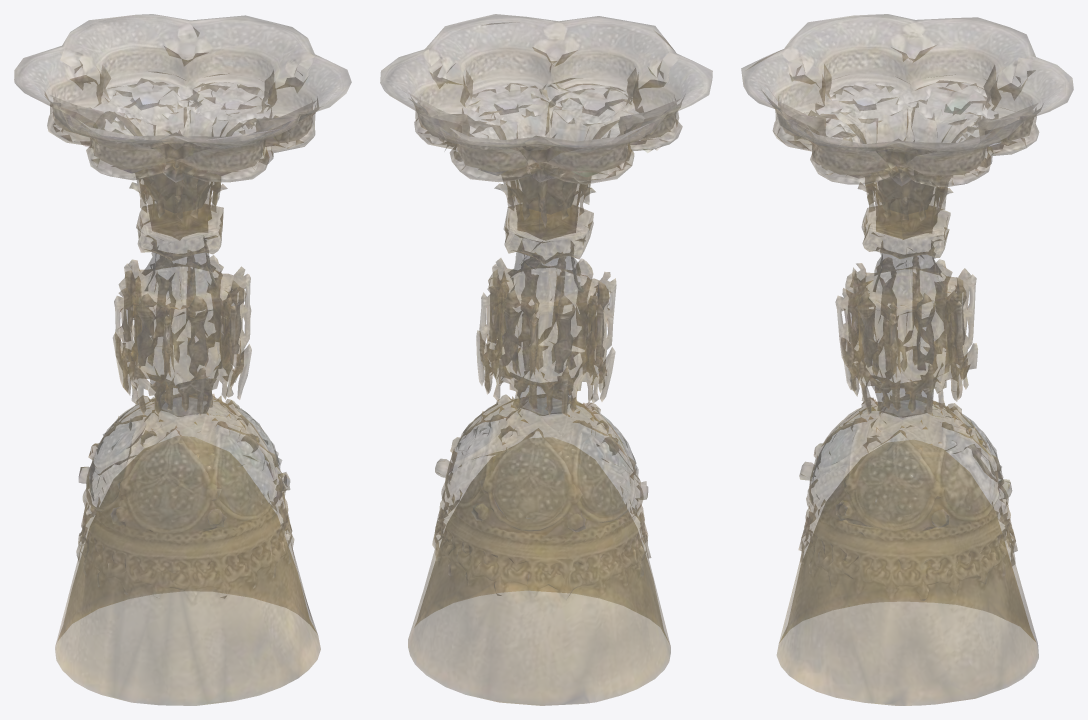
Rendered from KHR_materials_transmission.gltf.
3 views of the same model, side by side, from view 1: azimuth 30°, elevation 25°; view 2: azimuth 150°, elevation 25°; view 3: azimuth 270°, elevation 25° (orthographic).
Visible parts, largest first — view 1: MZM_D_S_63_Kielich_czasza_edit08w; view 2: MZM_D_S_63_Kielich_czasza_edit08w; view 3: MZM_D_S_63_Kielich_czasza_edit08w.
Boxes of the visible parts, left/top/right/bottom form: MZM_D_S_63_Kielich_czasza_edit08w: left=14, top=14, right=351, bottom=705; MZM_D_S_63_Kielich_czasza_edit08w: left=380, top=14, right=712, bottom=705; MZM_D_S_63_Kielich_czasza_edit08w: left=741, top=14, right=1073, bottom=705.
Bounding box in the file's own units: 11.16 × 22.38 × 11.74.
3 materials, 3 textured.
